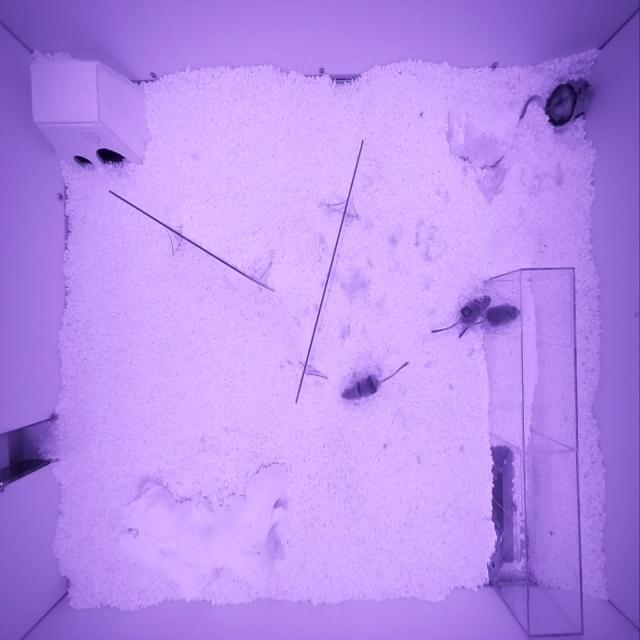adult_back: (545, 77, 592, 131)
pup_fluffy: (486, 305, 520, 328)
pup_h_stripe: (341, 374, 380, 400)
pup_spotted: (458, 295, 491, 326)
